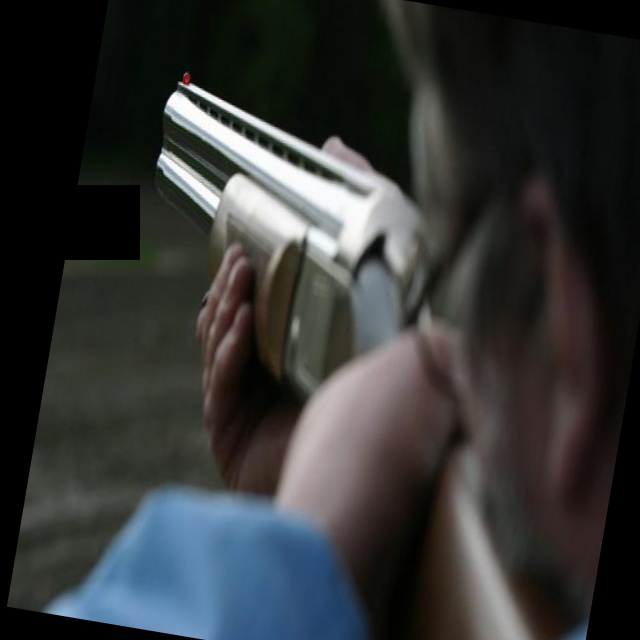gun: (97, 46, 487, 435)
